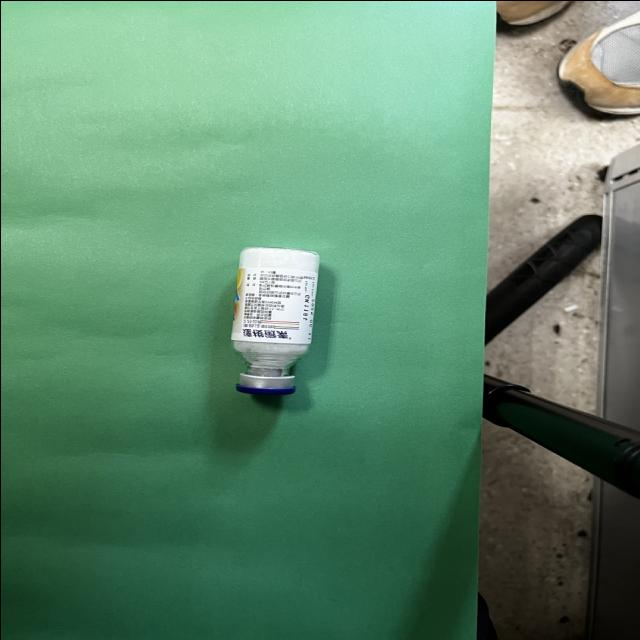Vials: (229, 246, 319, 395)
